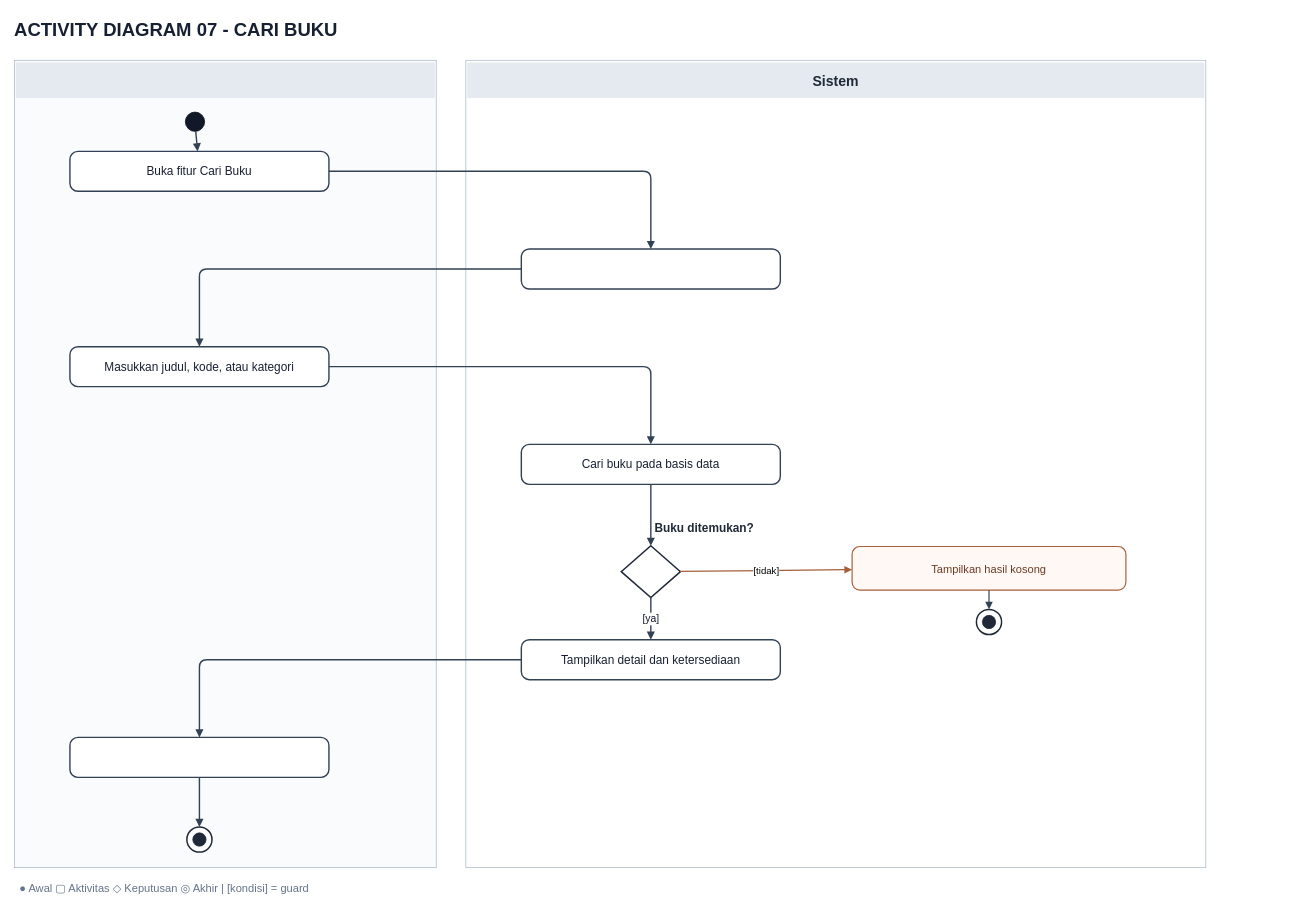
Some shapes in this 1302 by 907 pixel diagram are drawn without their labels. Here are the shapes that lost their labels. From the top down, the centre of each, then its label:
the point at 225,80: Anggota
the point at 650,268: Tampilkan kotak pencarian
the point at 199,757: Lihat informasi buku
